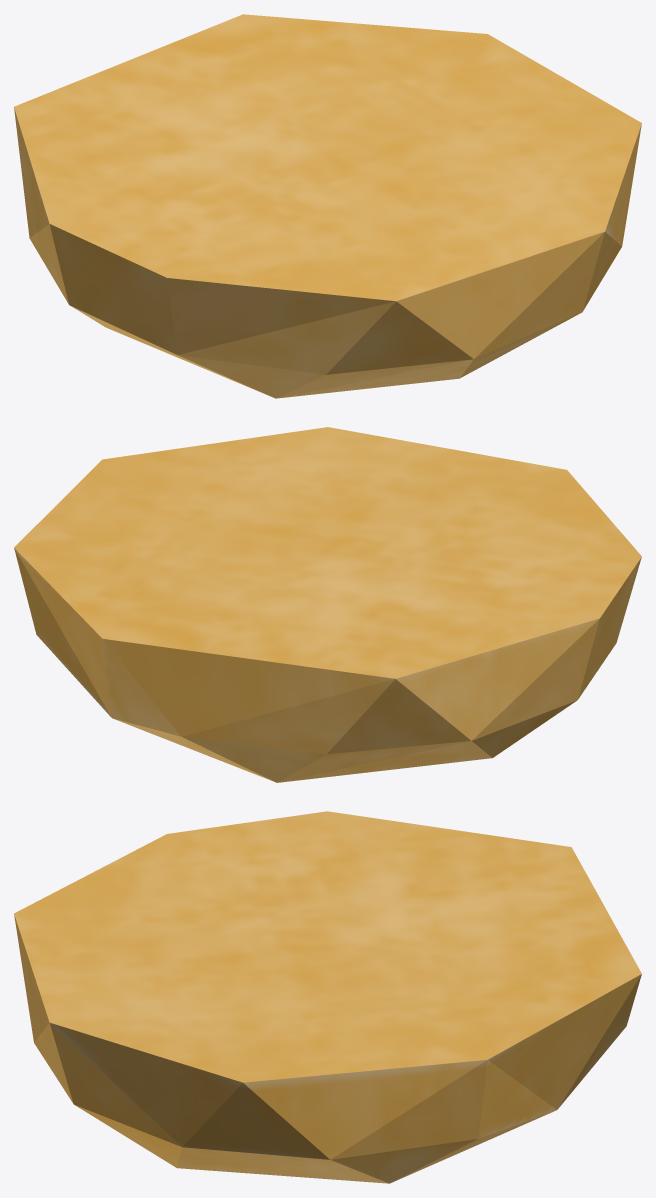
Rendered from burgerbun 1.fbx.
The picture shows the model from 3 angles, top to bottom: view 1: azimuth 30°, elevation 25°; view 2: azimuth 150°, elevation 25°; view 3: azimuth 270°, elevation 25°; orthographic projection. The views are drawn at different scales.
Visible parts, largest first — view 1: bun_up_Sphere.001; view 2: bun_up_Sphere.001; view 3: bun_up_Sphere.001.
Part boxes in pixels (x1,y1,x2,y2): bun_up_Sphere.001: (14,14,641,398); bun_up_Sphere.001: (14,427,641,782); bun_up_Sphere.001: (14,811,641,1183).
Size of the model in its own units: 124 by 38.77 by 123.
